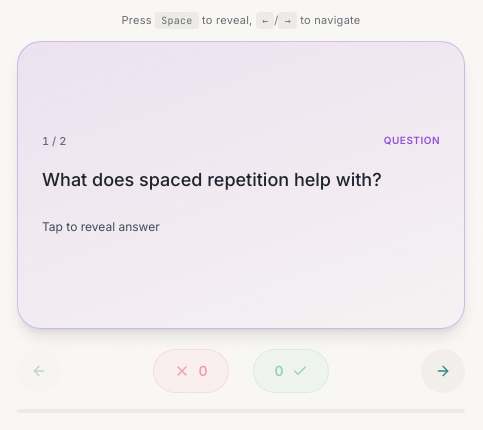
Test case: FlashcardDeck › keeps grading buttons disabled until reveal and advances after grading
Later steps or results of the test are not shown.
Check: the button named "mark wrong" is disabled, box x1=153 y1=348 x2=229 y2=392
Check: the button named "mark correct" is disabled, box x1=253 y1=348 x2=329 y2=392
Step 1. Click the button "reveal answer" → (241,184), box x1=17 y1=40 x2=465 y2=328
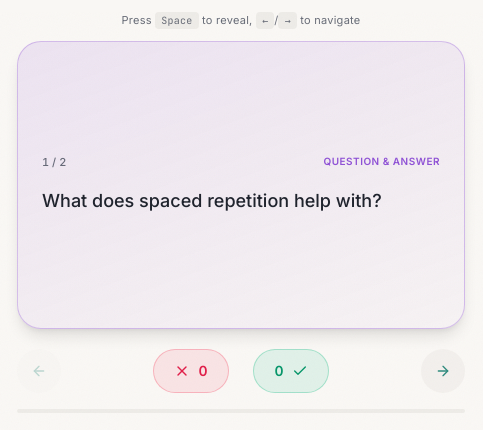
Check: the button named "mark correct" is enabled, box x1=253 y1=348 x2=329 y2=392
Check: the button named "mark wrong" is enabled, box x1=153 y1=348 x2=229 y2=392
